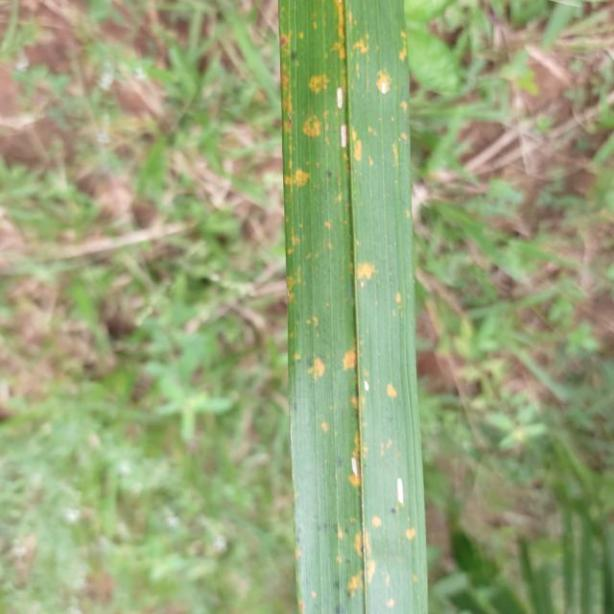Kalium: (278, 0, 430, 614)
